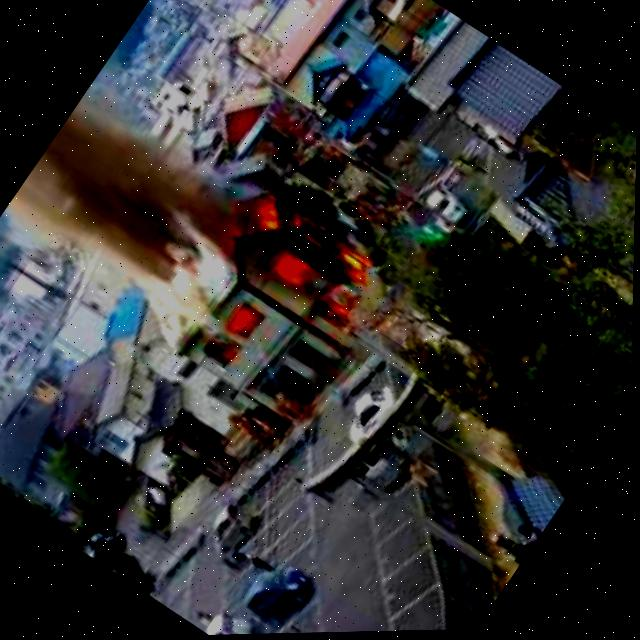Fire: (233, 190, 388, 325), (221, 296, 274, 354)
Smoke: (0, 89, 247, 324)
